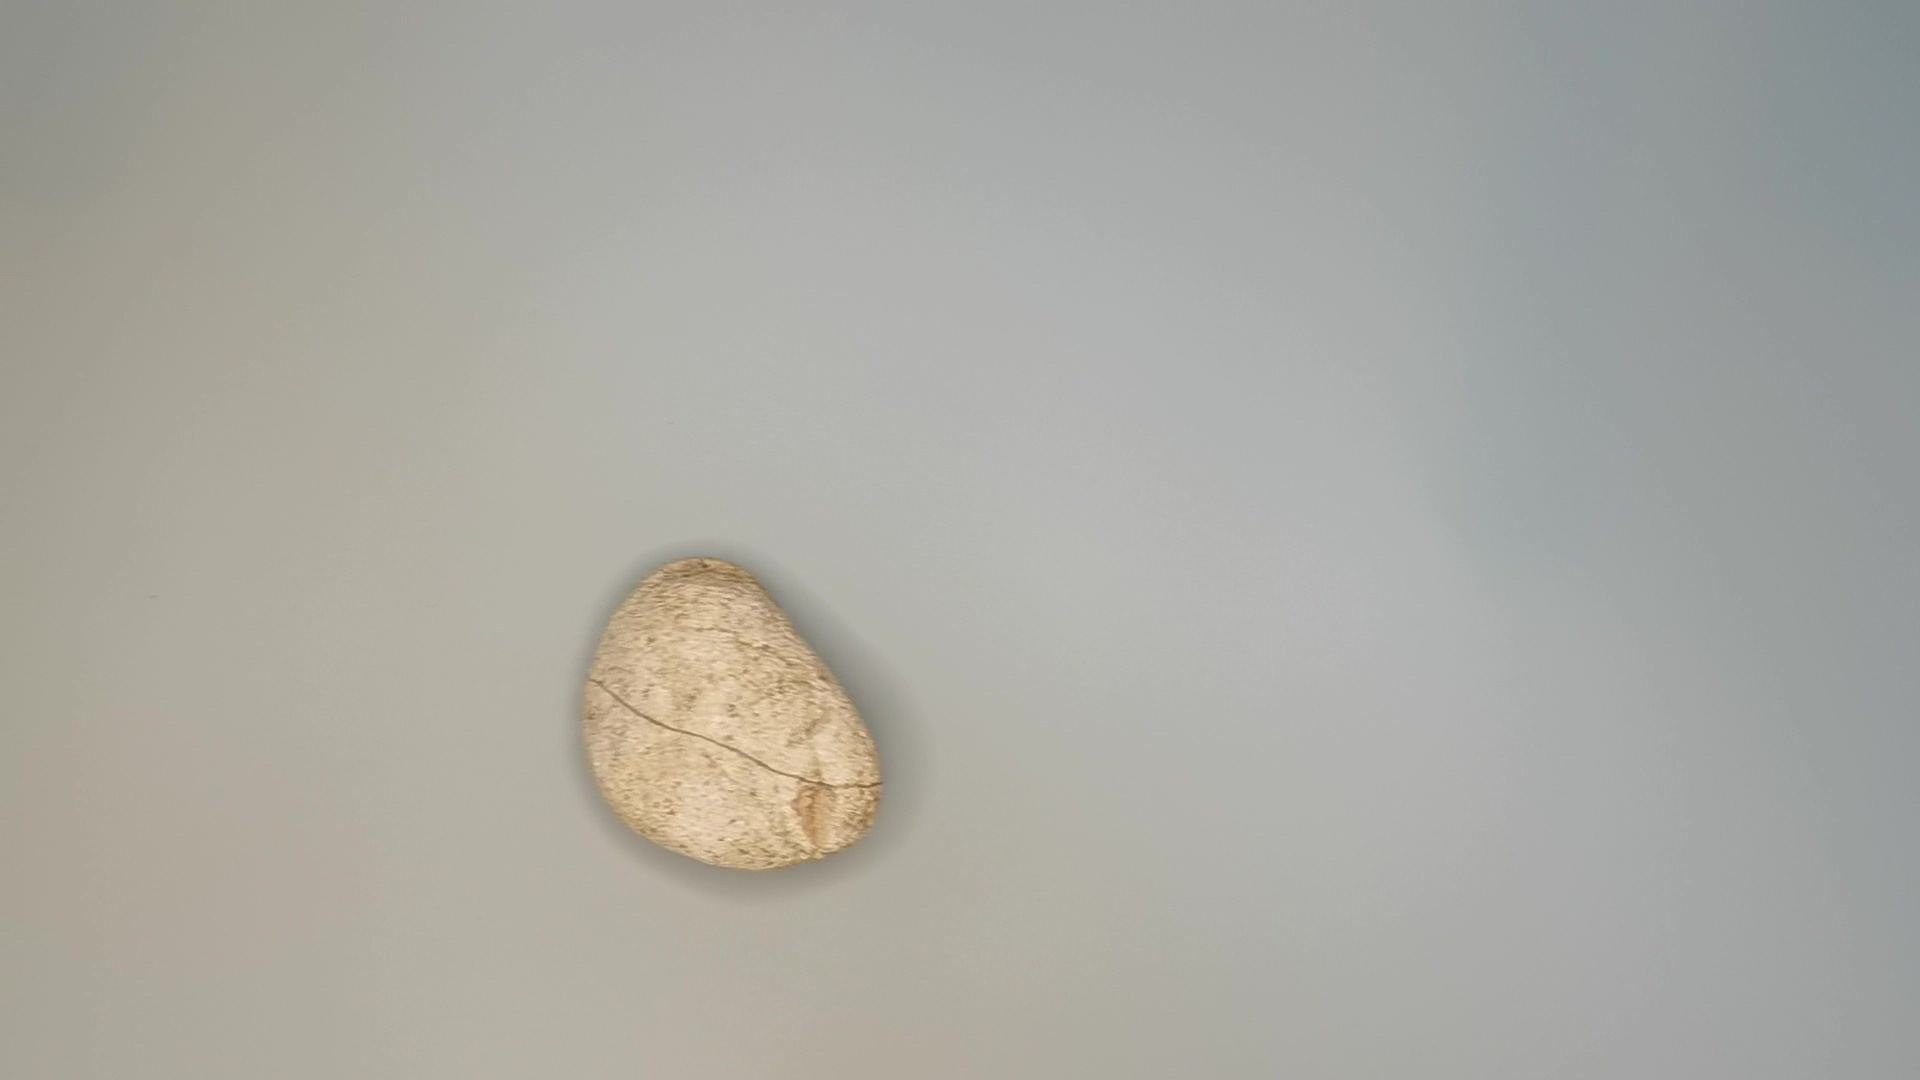ceramic: (574, 553, 899, 882)
